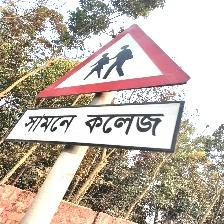College-in-front: (8, 29, 224, 169)
